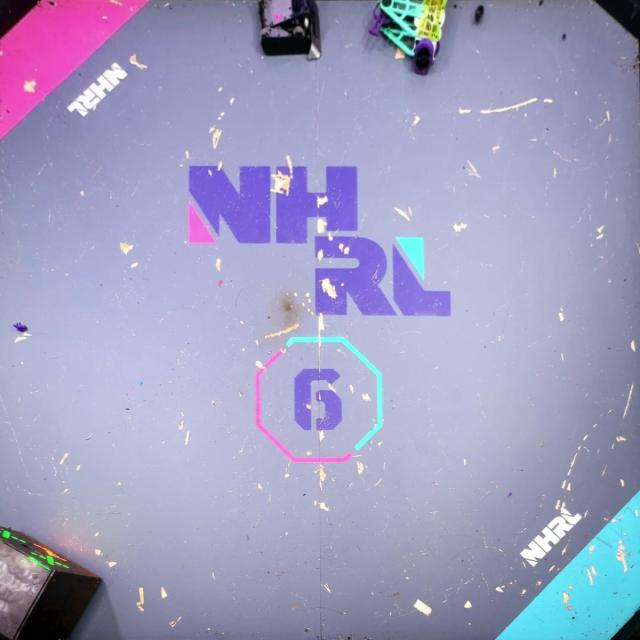housebot: (0, 523, 103, 640)
robot: (368, 0, 449, 75), (257, 0, 323, 60)
